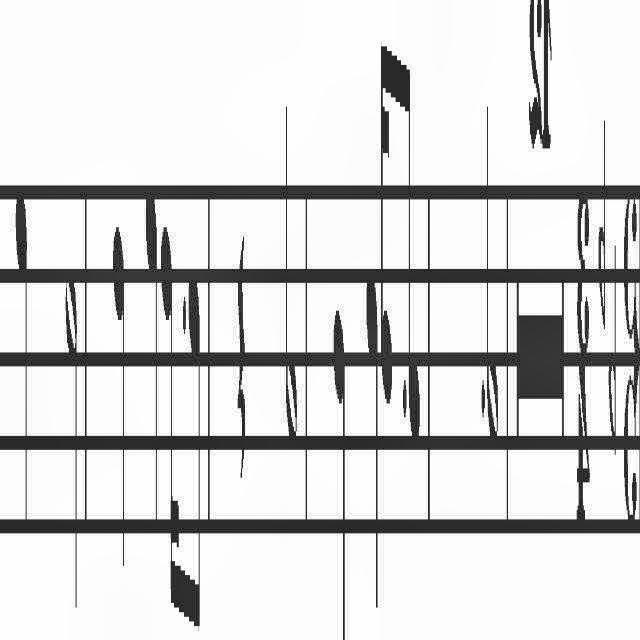Bemol: (597, 61, 611, 362), (607, 241, 621, 459)
Eighth-note: (406, 54, 426, 462), (187, 250, 205, 640)
Half-note: (10, 142, 32, 530), (486, 53, 506, 475), (281, 79, 299, 497), (64, 246, 78, 640)
Quarter-note: (109, 202, 128, 582), (328, 292, 348, 640), (143, 158, 161, 538), (364, 258, 380, 622)
Quarter-rest: (235, 202, 249, 466)
Sixteenth-note: (160, 207, 180, 637), (378, 28, 394, 428)
